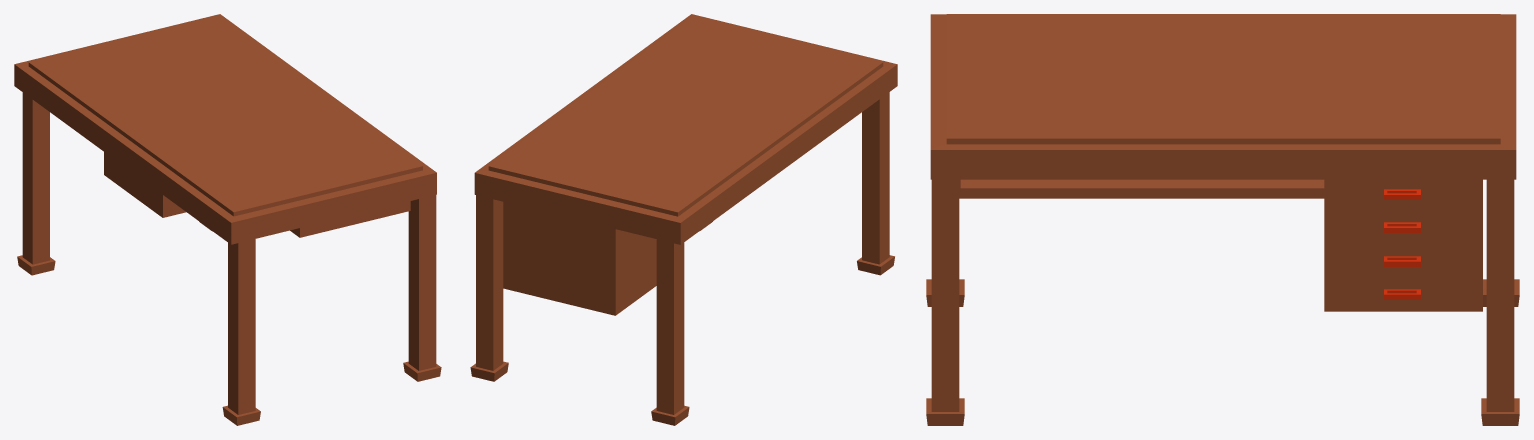
Rendered from masayeniden.fbx.
3 views of the same model, side by side, from view 1: azimuth 30°, elevation 25°; view 2: azimuth 150°, elevation 25°; view 3: azimuth 270°, elevation 25° (orthographic). The views are drawn at different scales.
Visible parts, largest first — view 1: Cube.003; view 2: Cube.003; view 3: Cube.003, Cube.005.
Part boxes in pixels (bbox=[...]): Cube.003: bbox=[14, 14, 441, 425]; Cube.003: bbox=[470, 14, 897, 425]; Cube.003: bbox=[926, 14, 1519, 425]; Cube.005: bbox=[1384, 189, 1420, 299].
Bounding box in the file's own units: 1364 × 1275 × 2444.
